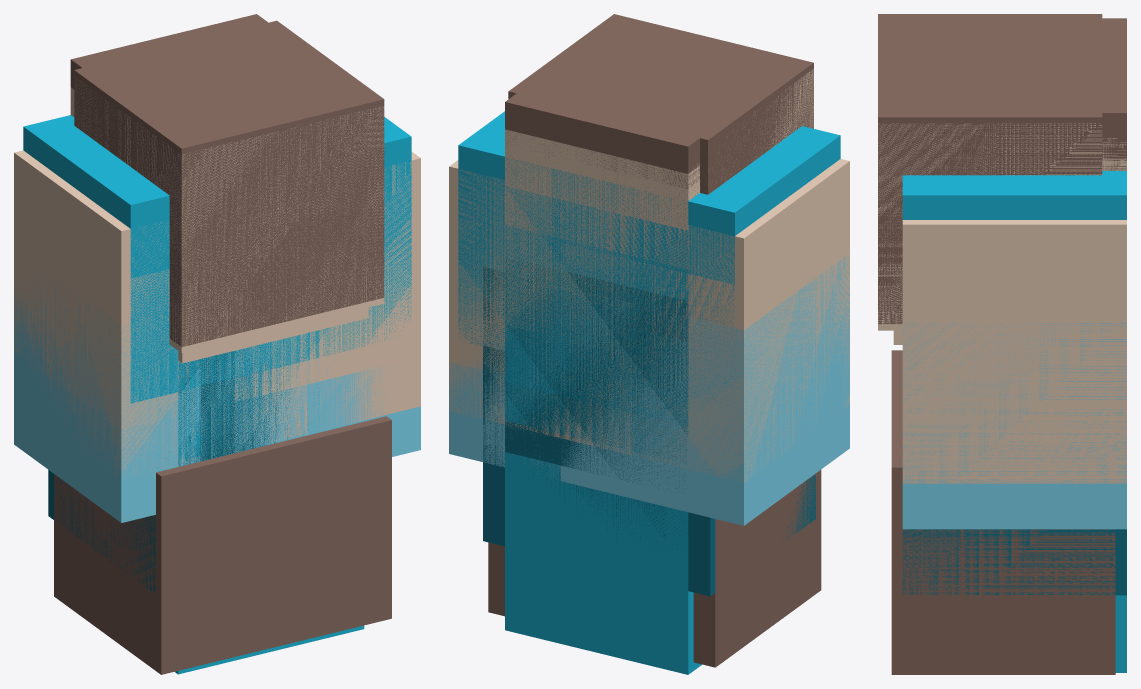
3 views of the same model, side by side, from view 1: azimuth 30°, elevation 25°; view 2: azimuth 150°, elevation 25°; view 3: azimuth 270°, elevation 25° (orthographic). The views are drawn at different scales.
Parts seen in each view (by area): view 1: LeftBrow, RightFoot, LeftFoot, LeftHand, LeftUpperArm, LeftForeArm, Hair, LeftShoulder, RightBrow, RightUpperArm, LeftEyelid, RightHand (+10 smaller); view 2: LeftHand, LOD0_High, Spine, LeftForeArm, Hips, LeftUpperArm, Hair, RightBrow, RightUpperArm, LeftFoot, LeftShoulder, Chest (+11 smaller); view 3: RightForeArm, RightUpperArm, RightFoot, Hair, RightBrow, RightHand, LeftBrow, RightShoulder, RightLeg, RightEyelid, LeftFoot, LOD0_High.
Boxes of the visible parts, x1,y1,x2,y2 form: LeftBrow: [74, 31, 367, 346]; RightFoot: [206, 416, 391, 663]; LeftFoot: [54, 427, 347, 674]; LeftHand: [14, 268, 306, 522]; LeftUpperArm: [14, 150, 219, 429]; LeftForeArm: [14, 203, 307, 477]; Hair: [70, 14, 363, 137]; LeftShoulder: [23, 115, 316, 403]; RightBrow: [151, 20, 384, 342]; RightUpperArm: [235, 152, 420, 401]; LeftEyelid: [74, 78, 367, 352]; RightHand: [235, 326, 420, 456]; LeftHand: [561, 253, 849, 525]; LOD0_High: [505, 435, 701, 674]; Spine: [505, 225, 688, 464]; LeftForeArm: [561, 211, 849, 482]; Hips: [505, 257, 688, 488]; LeftUpperArm: [561, 159, 849, 432]; Hair: [505, 24, 792, 341]; RightBrow: [508, 14, 796, 135]; RightUpperArm: [449, 160, 632, 374]; LeftFoot: [693, 470, 821, 667]; LeftShoulder: [551, 126, 840, 402]; Chest: [505, 186, 688, 425]; RightForeArm: [902, 276, 1126, 483]; RightUpperArm: [902, 220, 1126, 431]; RightFoot: [891, 375, 1115, 674]; Hair: [902, 18, 1126, 170]; RightBrow: [878, 23, 1102, 324]; RightHand: [902, 322, 1126, 529]; LeftBrow: [878, 14, 1102, 108]; RightShoulder: [902, 171, 1126, 219]; RightLeg: [902, 529, 1126, 595]; RightEyelid: [878, 123, 1102, 330]; LeftFoot: [891, 350, 902, 444]; LOD0_High: [1115, 595, 1126, 672].
Bounding box in the file's own units: 1.61 × 2.76 × 1.11.
